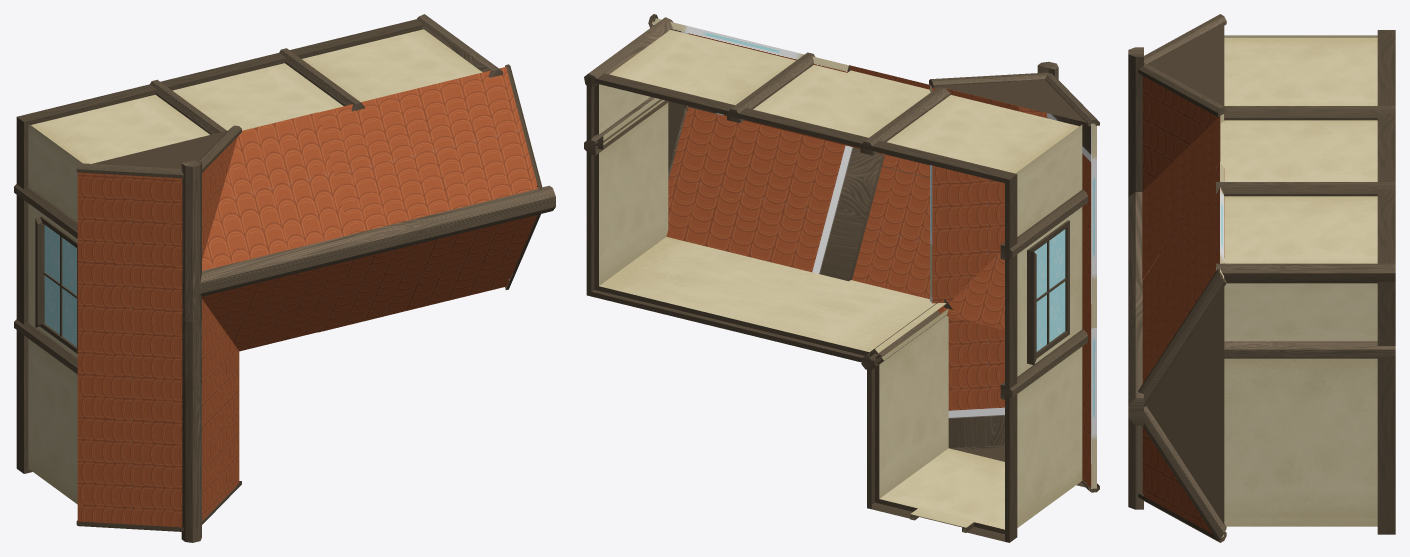
File: HouseLittleL.fbx
3 renders of one model, left to right at view 1: azimuth 30°, elevation 25°; view 2: azimuth 150°, elevation 25°; view 3: azimuth 270°, elevation 25°, orthographic. The views are drawn at different scales.
Parts seen in each view (by area): view 1: HouseLittle; view 2: HouseLittle; view 3: HouseLittle.
Boxes of the visible parts, x1=… form: HouseLittle: x1=14, y1=14, x2=555, y2=542; HouseLittle: x1=584, y1=14, x2=1099, y2=542; HouseLittle: x1=1128, y1=14, x2=1395, y2=542.
Bounding box in the file's own units: 10.26 × 8.34 × 4.46.
Materials: 1 (1 with a texture image).
